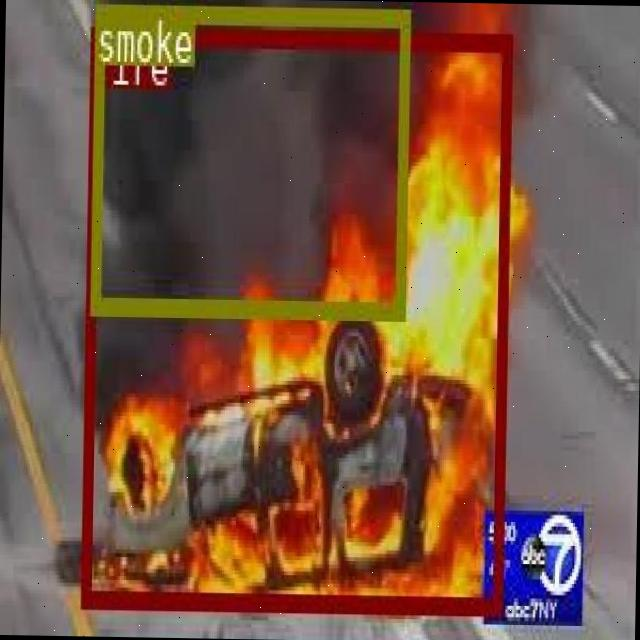fire: (79, 24, 509, 611)
smoke: (90, 1, 408, 314)
